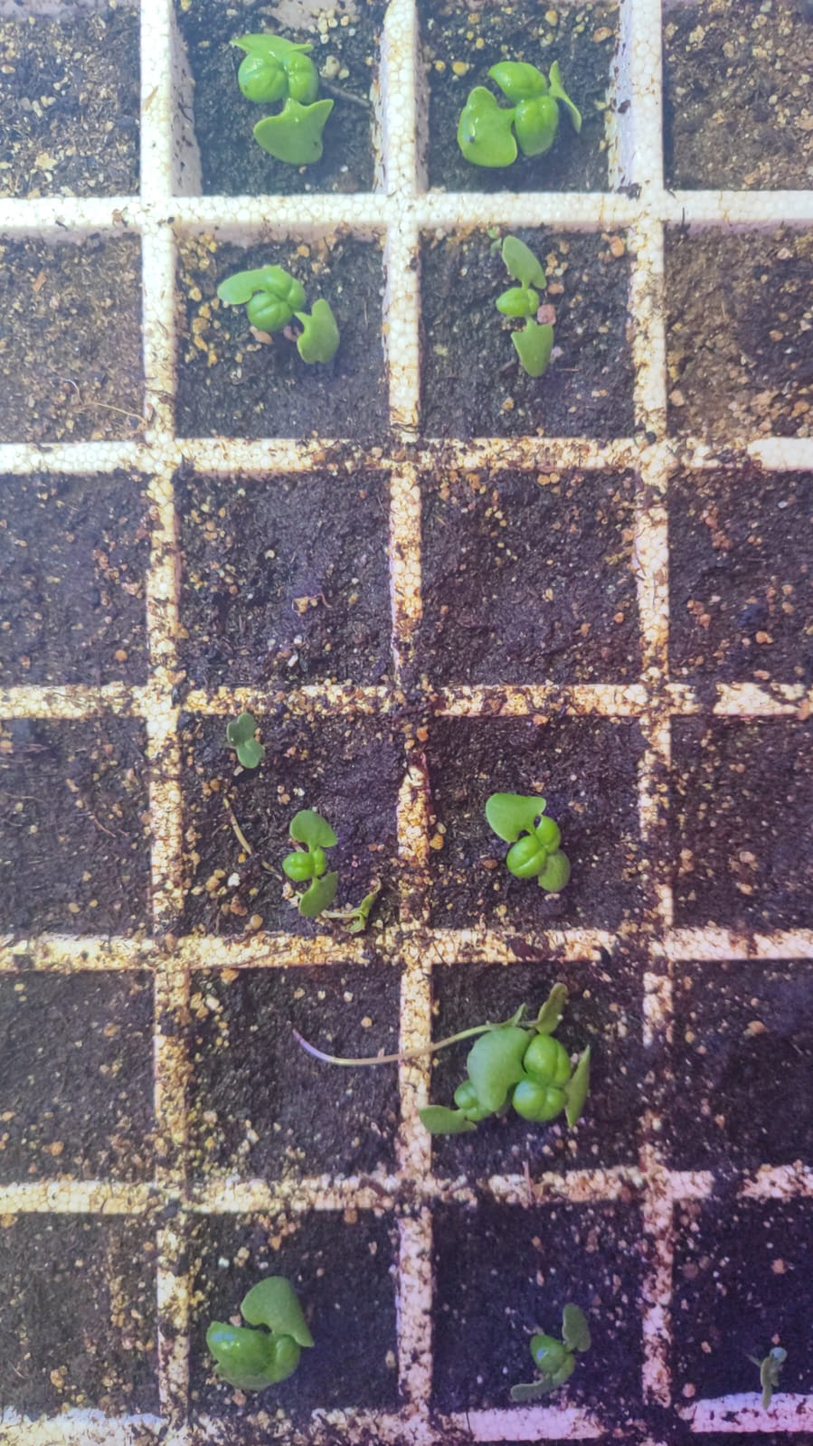Folha: (437, 978, 598, 1158), (233, 21, 352, 166), (455, 53, 581, 171), (201, 1271, 317, 1396), (218, 260, 343, 365), (481, 786, 573, 895), (491, 232, 558, 378), (507, 1302, 592, 1408), (279, 806, 341, 918), (252, 99, 332, 165), (456, 83, 518, 167), (217, 264, 295, 327), (515, 97, 561, 158), (224, 711, 265, 770), (499, 234, 544, 287), (553, 1364, 572, 1384), (759, 0, 771, 13), (487, 226, 497, 239)
Germinacao: (228, 711, 345, 917), (412, 1004, 588, 1139), (235, 33, 333, 165), (206, 1275, 313, 1391), (216, 262, 339, 361), (458, 56, 565, 165), (482, 790, 571, 891), (494, 235, 558, 374), (518, 1303, 590, 1384)
